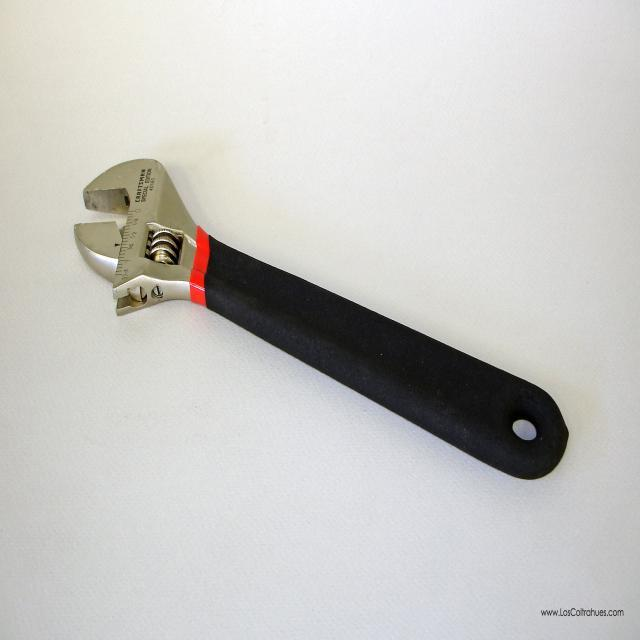wrench: (67, 152, 574, 487)
